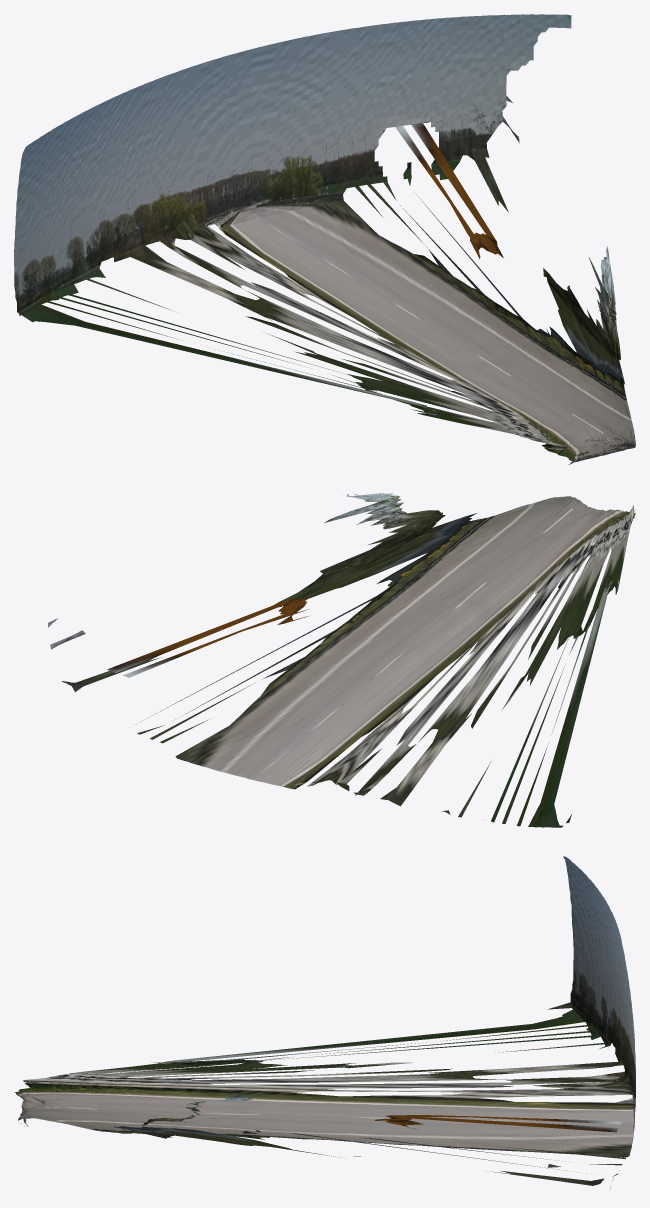
3 views of the same model, one above another, from view 1: azimuth 30°, elevation 25°; view 2: azimuth 150°, elevation 25°; view 3: azimuth 270°, elevation 25° (orthographic). The views are drawn at different scales.
Parts seen in each view (by area): view 1: defaultobject; view 2: defaultobject; view 3: defaultobject.
Part boxes in pixels (bbox=[...]): defaultobject: bbox=[14, 14, 635, 464]; defaultobject: bbox=[48, 493, 635, 827]; defaultobject: bbox=[14, 856, 635, 1188].
Size of the model in its own units: 40.92 by 13.17 by 44.63.
1 material, 1 textured.
